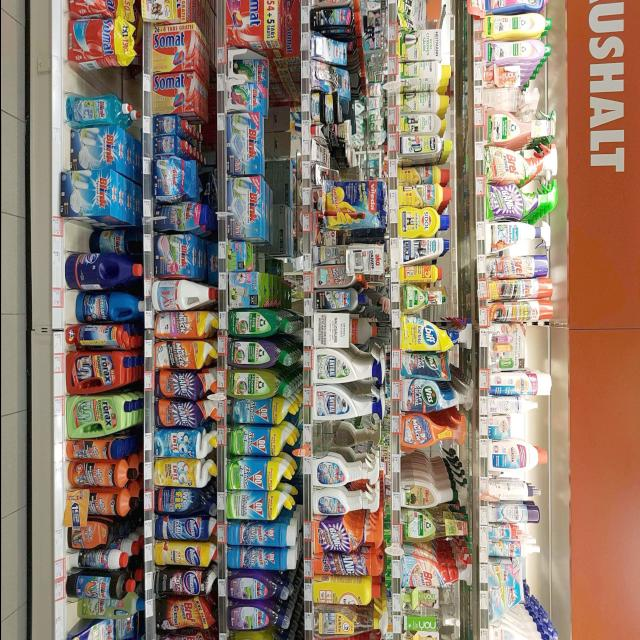empty_space: (65, 68, 119, 94), (62, 228, 92, 250), (63, 294, 78, 322)
